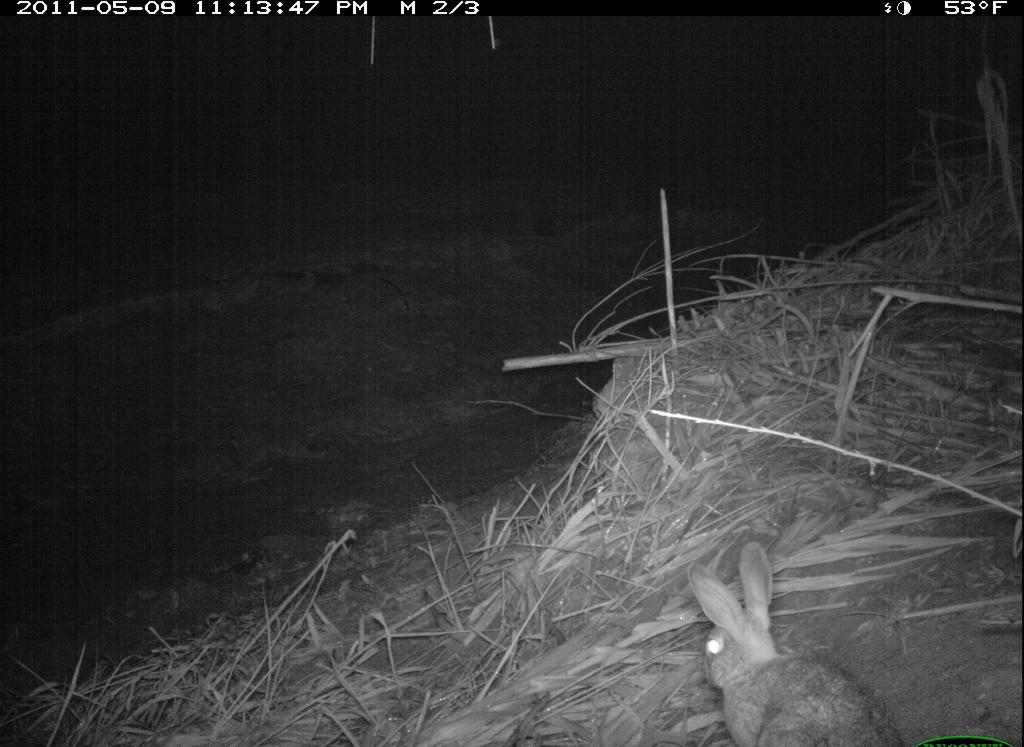rabbit: (671, 528, 920, 747)
